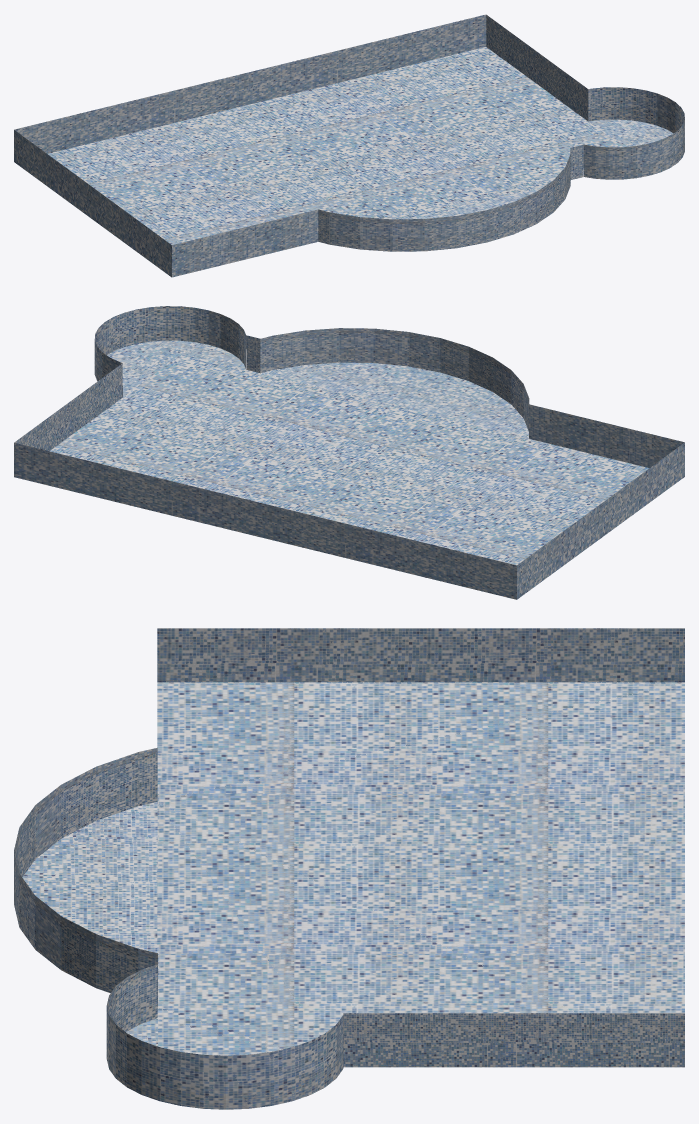
The model's file is alberca.obj.
3 renders of one model, top to bottom at view 1: azimuth 30°, elevation 25°; view 2: azimuth 150°, elevation 25°; view 3: azimuth 270°, elevation 25°, orthographic. The views are drawn at different scales.
Parts seen in each view (by area): view 1: Cylinder.001; view 2: Cylinder.001; view 3: Cylinder.001.
Boxes of the visible parts, bbox=[...] form: Cylinder.001: bbox=[14, 14, 684, 277]; Cylinder.001: bbox=[14, 306, 684, 599]; Cylinder.001: bbox=[14, 628, 684, 1109].
Bounding box in the file's own units: 0.1546 × 0.00913 × 0.1025.
2 materials, 2 textured.
